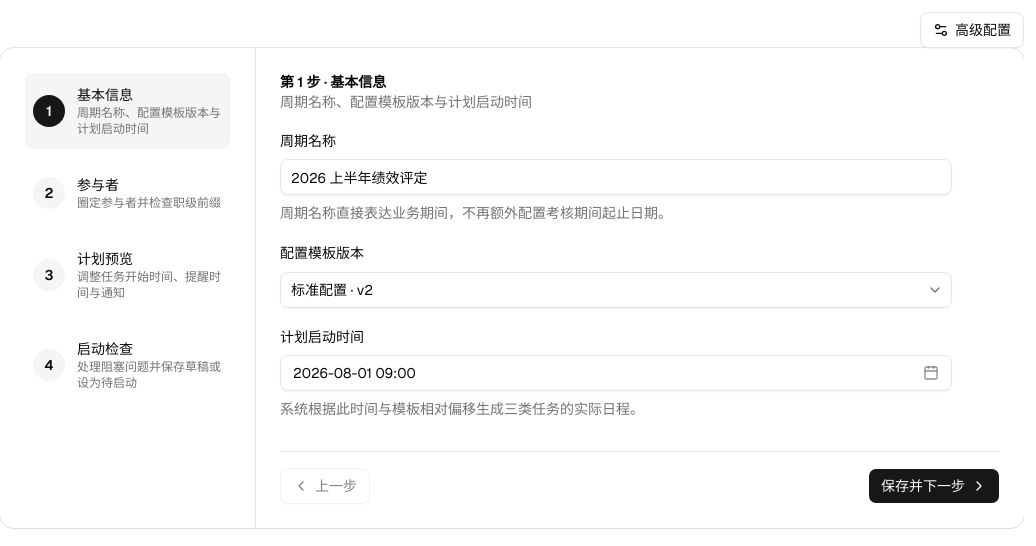
Scenario: CycleSetupEditor › 固定展示四步，基本信息不再要求周期类型或考核期间日期
This screenshot has width=1036, height=546.
Expected: the number of buttons "1 基本信息 周期名称、配置模板版本与计划启动时间" is 4, 24,72 -> 231,150; 24,162 -> 231,224; 24,236 -> 231,314; 24,326 -> 231,404
Expected: the field labelled "周期名称" is shown, 280,159 -> 952,195
Click the dropdown named "配置模板版本": (332, 290) 280,272 -> 952,308
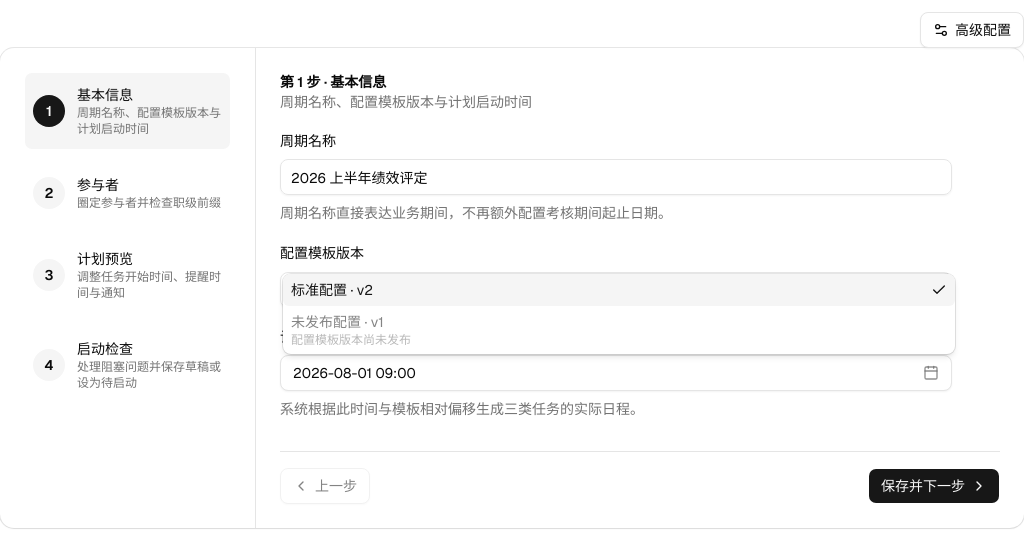
Result: the text "配置模板版本尚未发布" is shown at 291,332 -> 411,348
